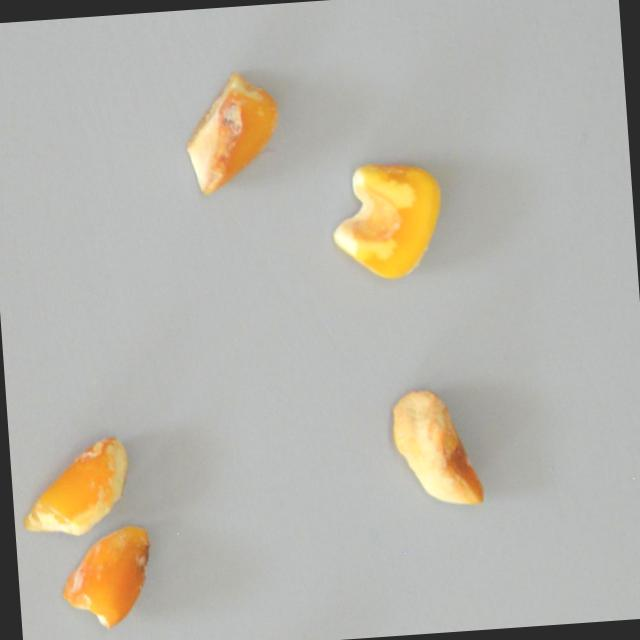dañado: (326, 150, 450, 285), (182, 66, 289, 201), (15, 433, 136, 544), (383, 383, 486, 512), (56, 523, 162, 635)
